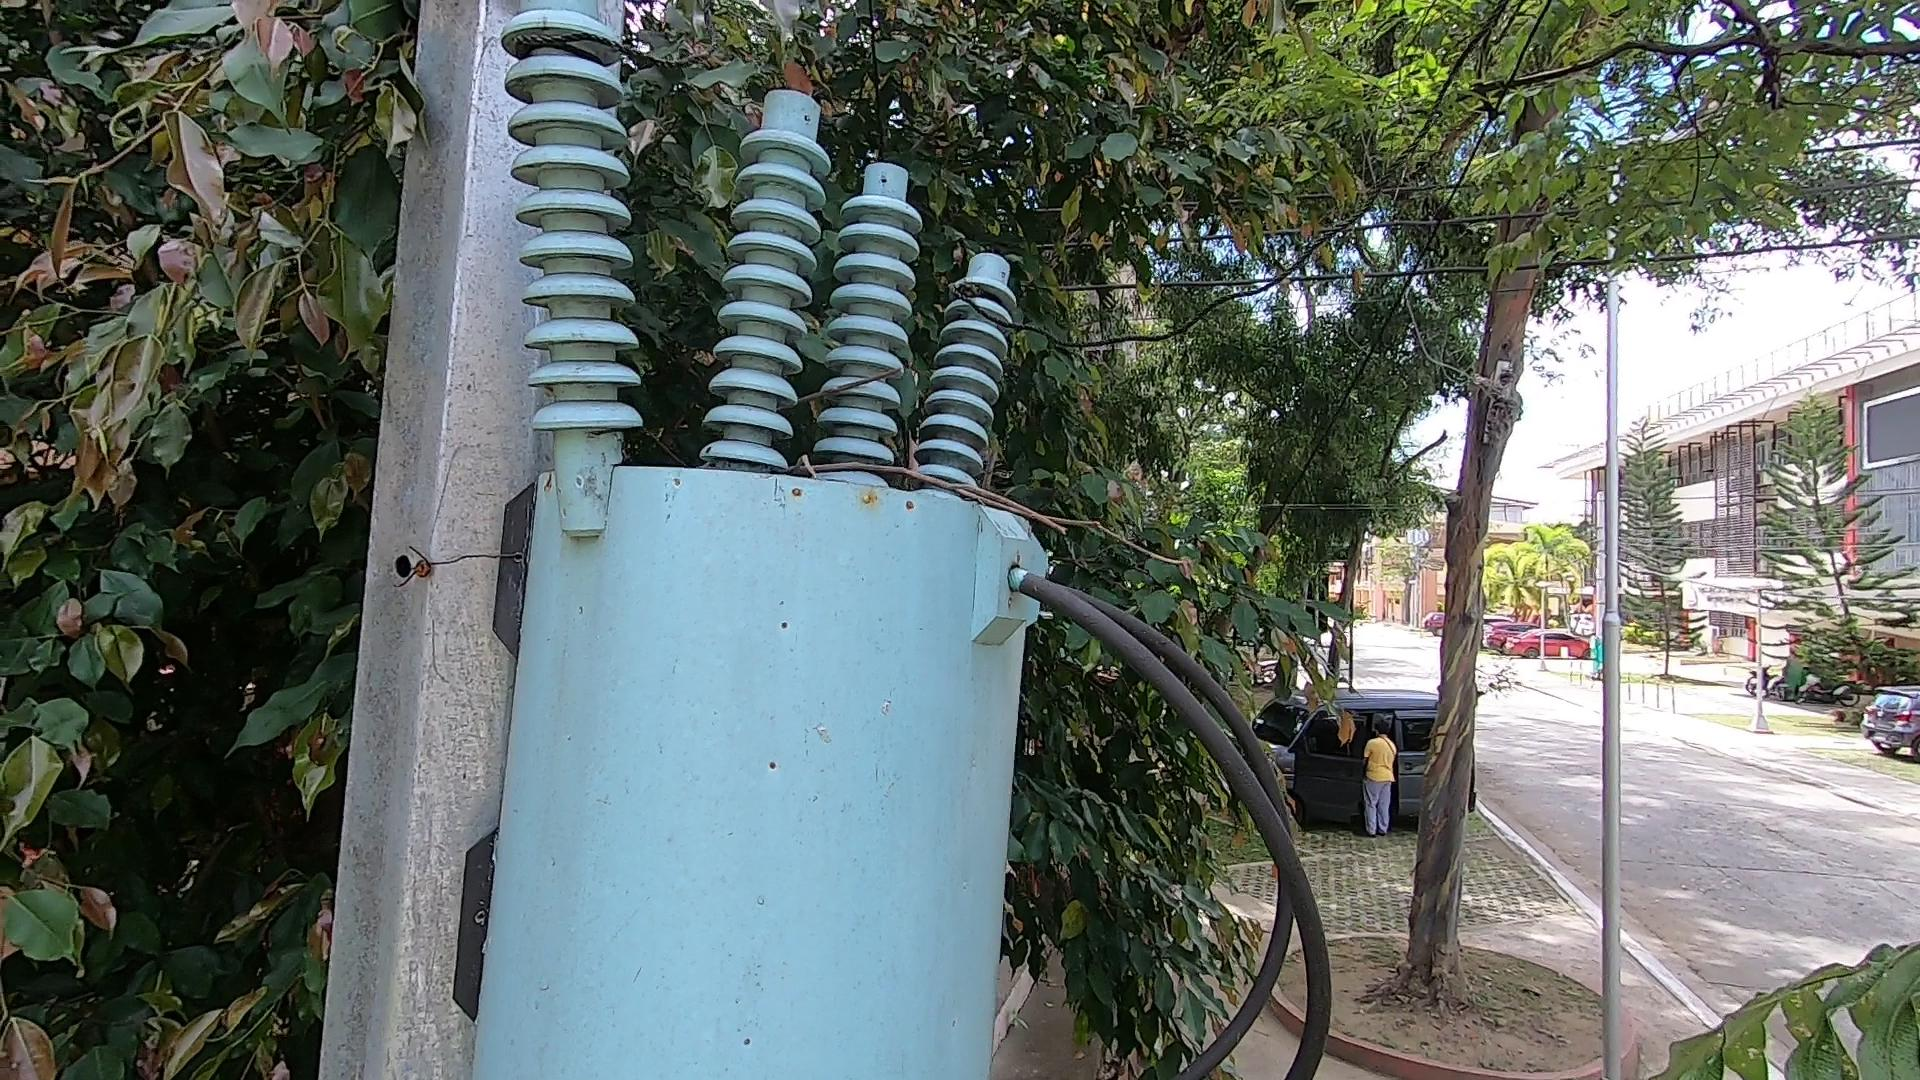tree branch: (733, 355, 1211, 596)
